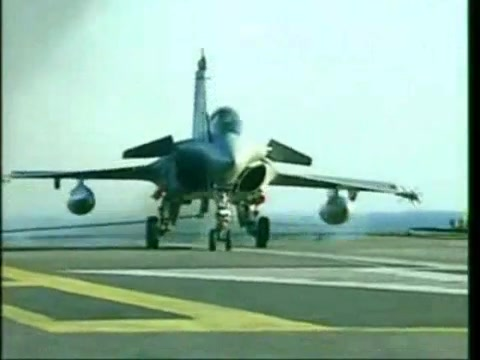aeroplane: (11, 50, 426, 252)
